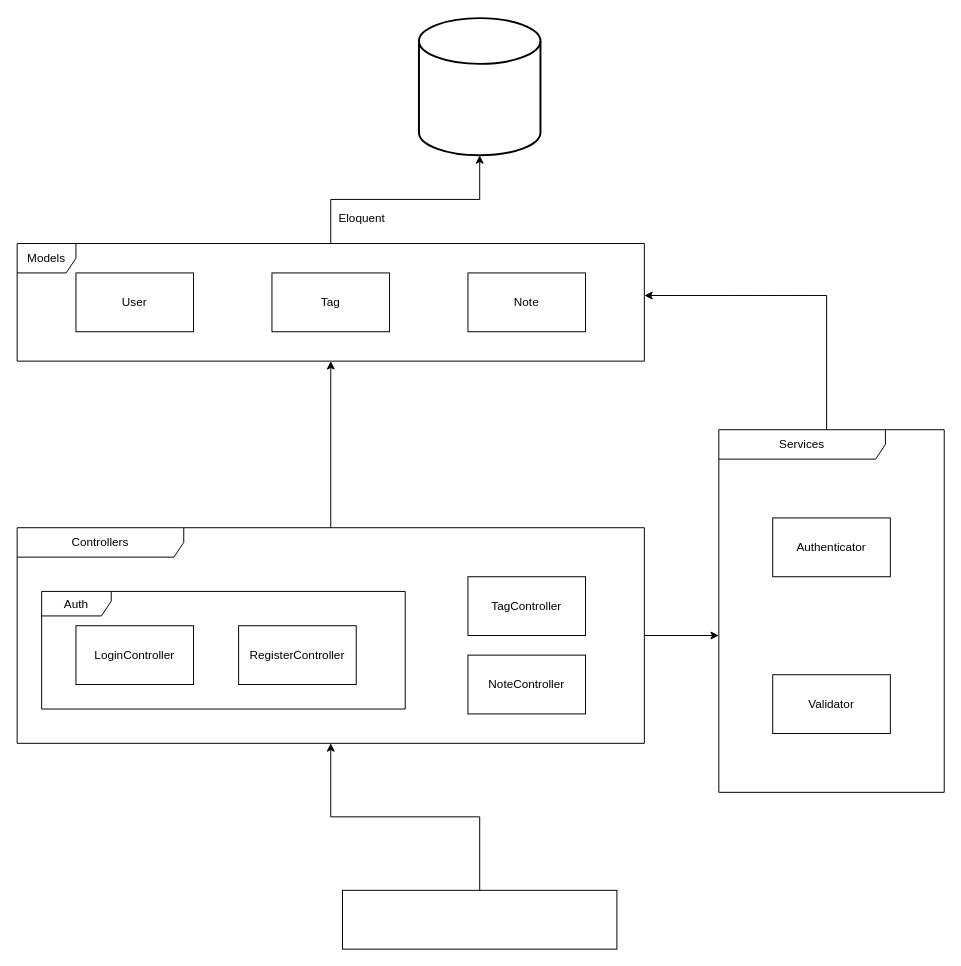
Some shapes in this 961 by 966 pixel diagram are drawn without their labels. Here are the shapes that lost their labels. From the top down, the centre of each, then its label:
At pixel 479 86: "SQLite".
At pixel 479 919: "API endpoints (Routes config)".
